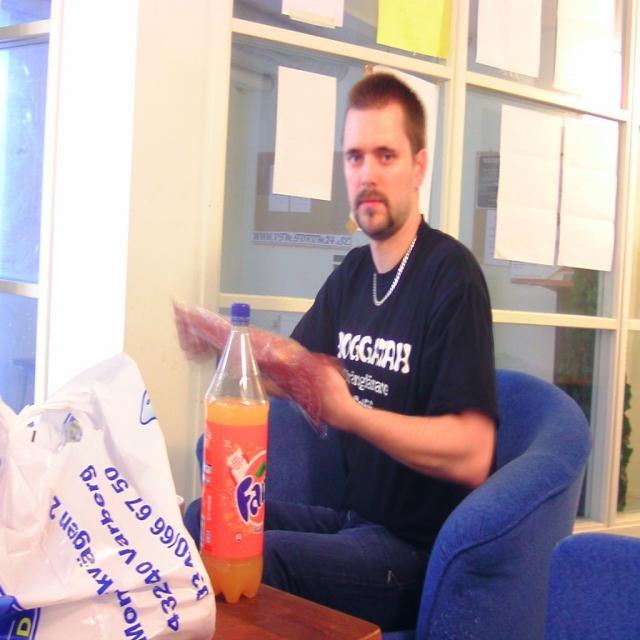Juice: (199, 397, 269, 605)
